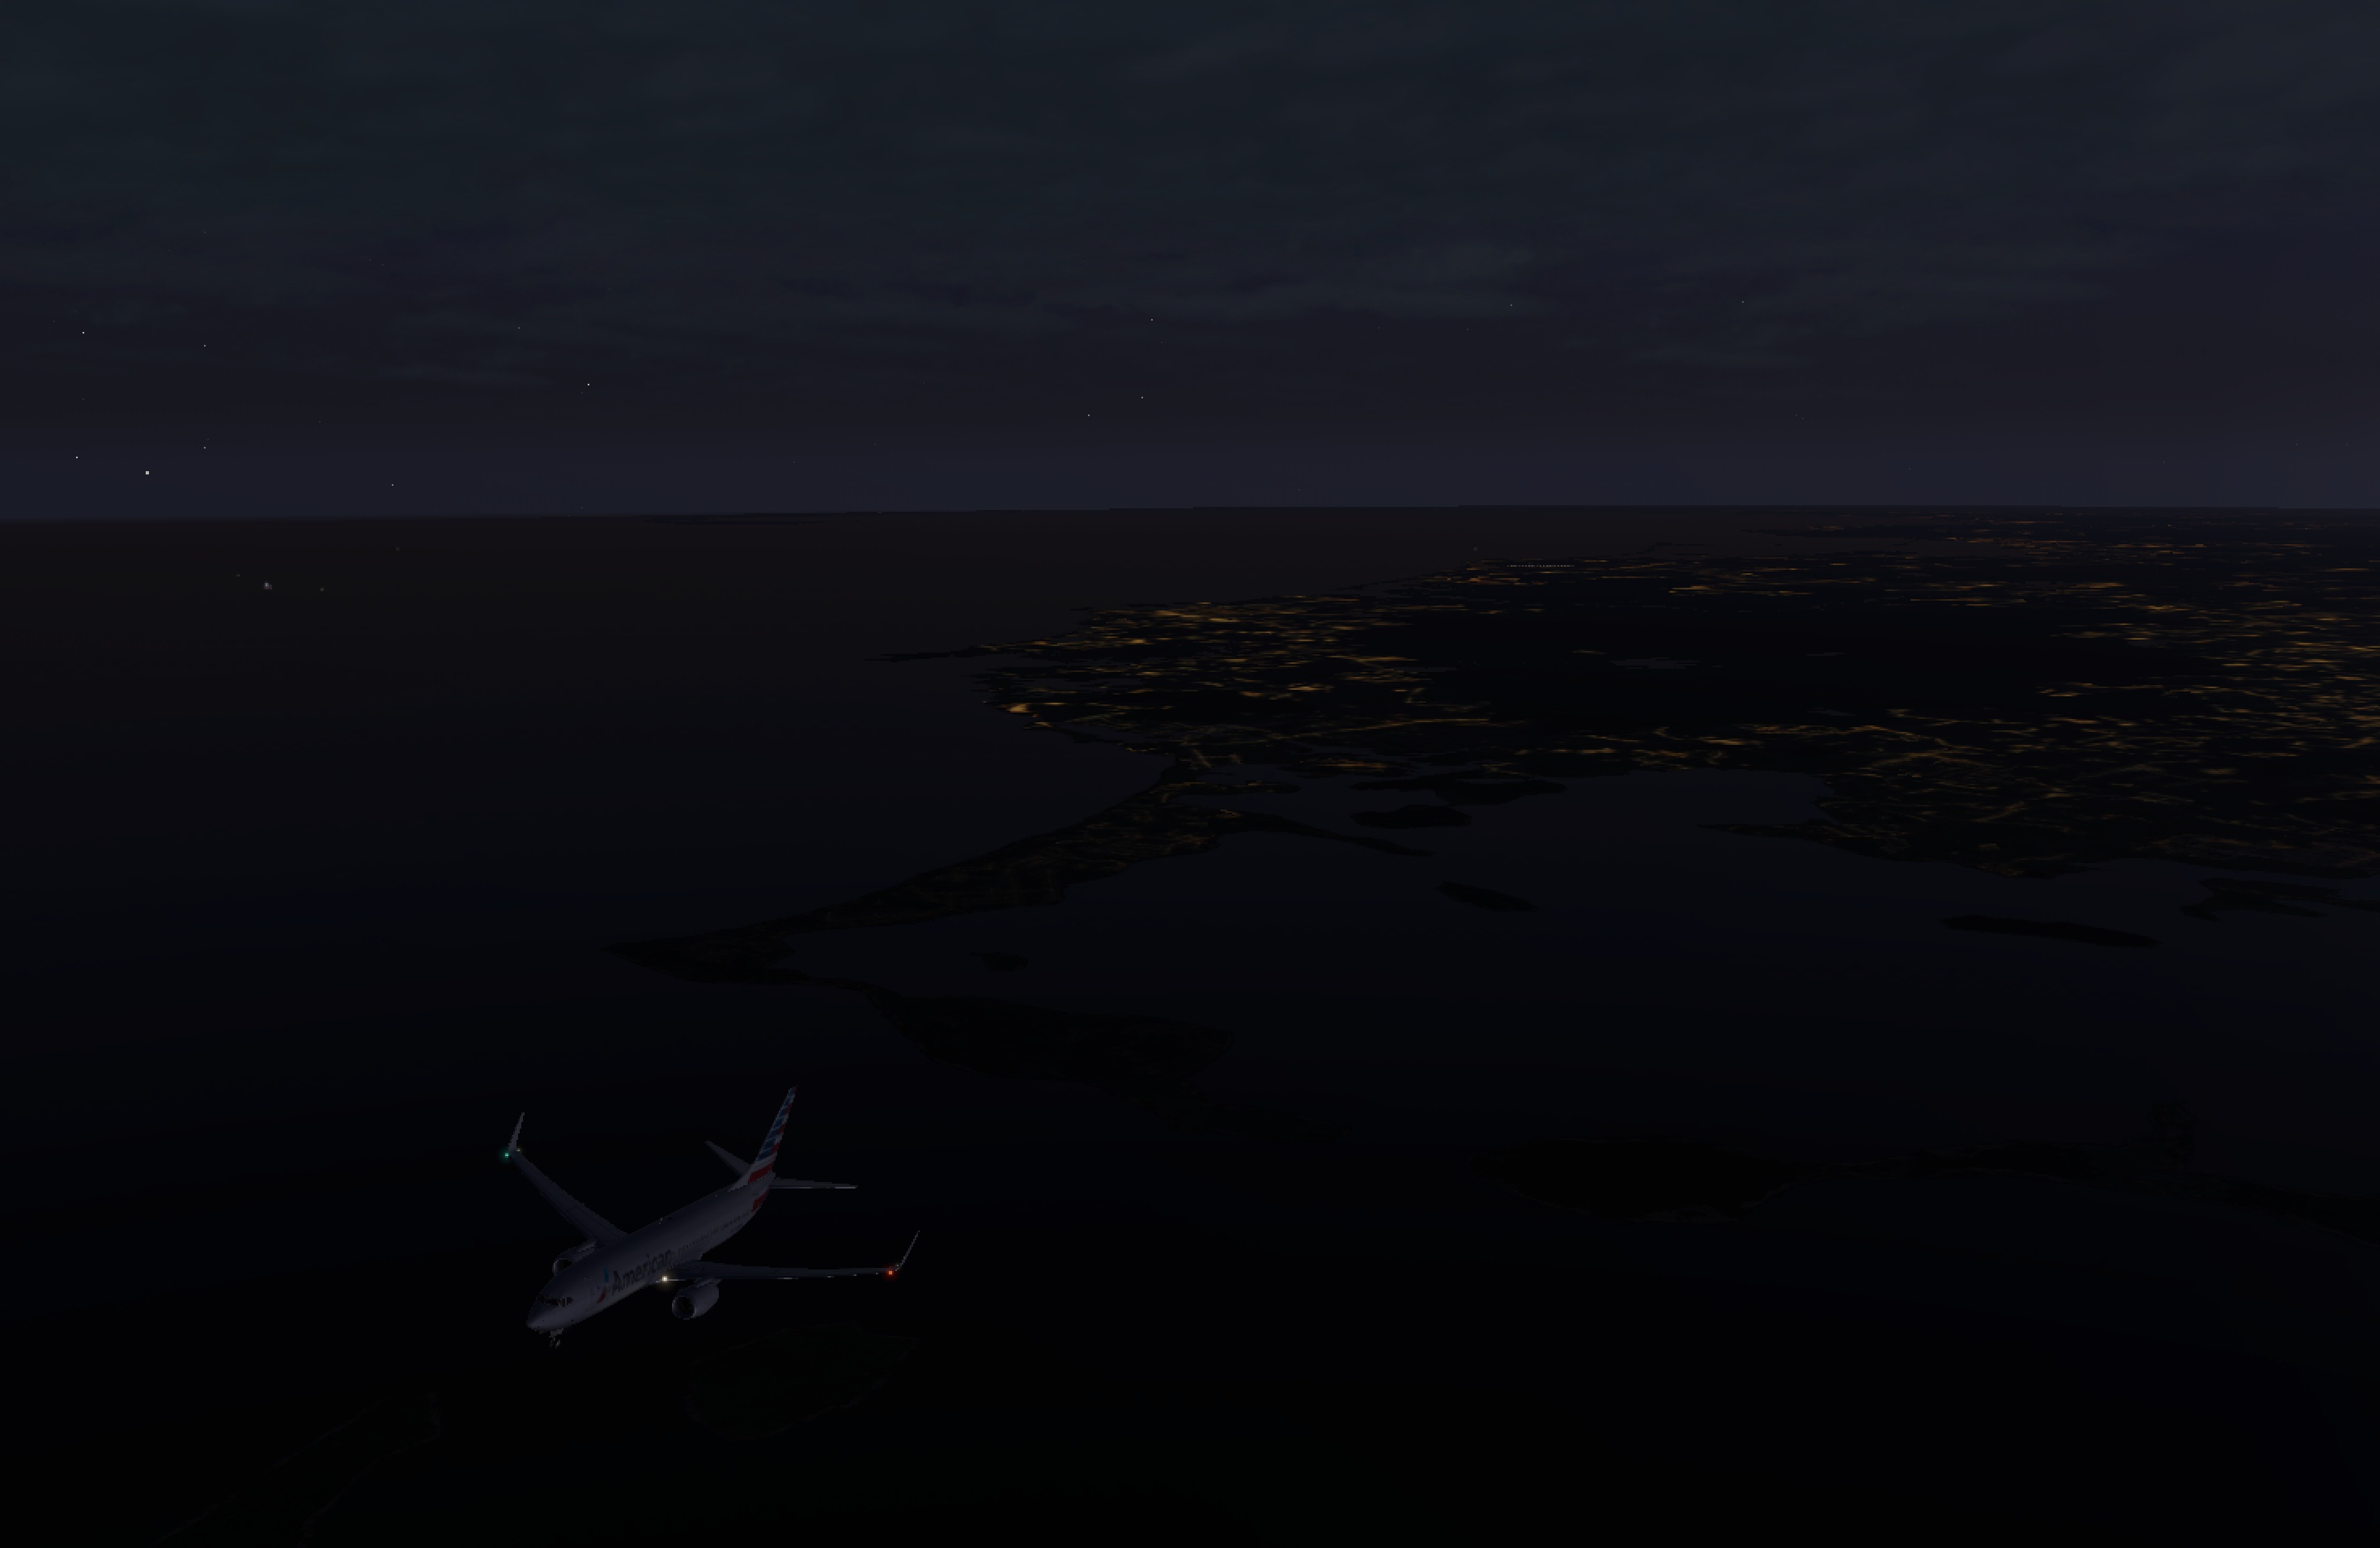aircraft: (413, 1164, 904, 1348)
